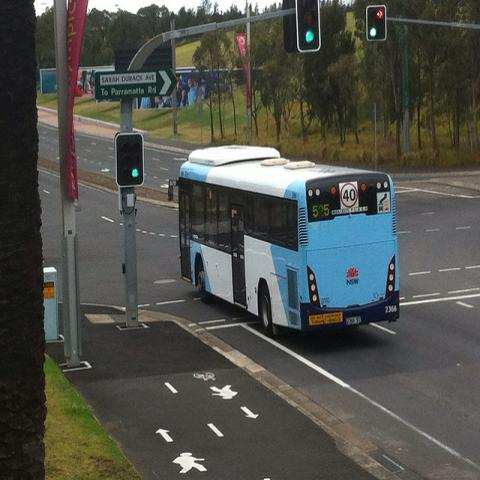bus: (182, 142, 404, 336)
